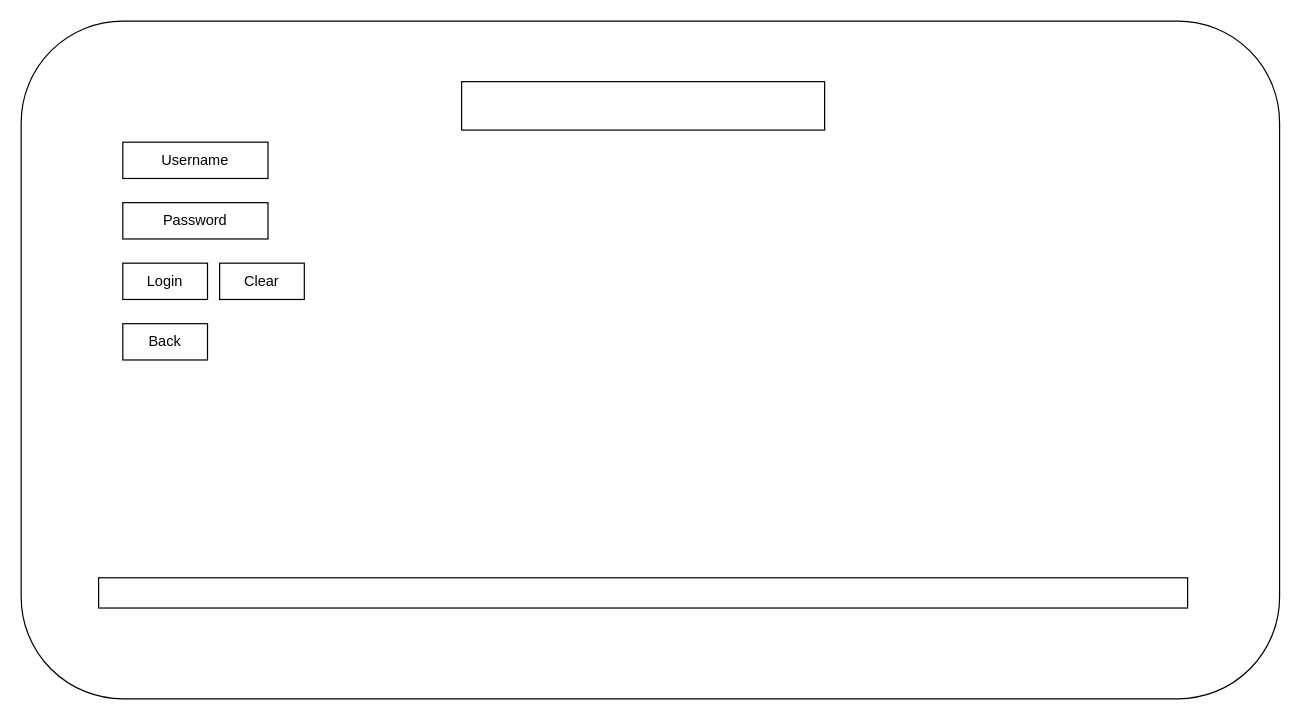
Image size: 1301x720. Some labels were removed from this diagram. Each missing label, with the centre of its shape:
Footer: the point at 642,592
Student Hub Portal: the point at 642,105
